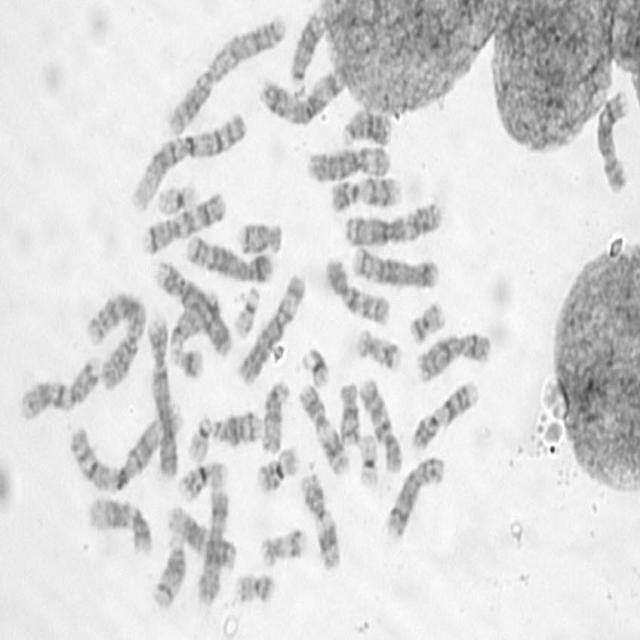A1: (126, 107, 248, 214), (68, 402, 186, 493)
A2: (165, 9, 288, 137), (82, 287, 147, 394)
A3: (257, 65, 348, 126), (341, 197, 444, 249)
B4: (152, 256, 232, 358), (145, 310, 180, 480)
B5: (184, 231, 273, 285), (349, 242, 440, 292)
C10: (356, 371, 406, 475), (322, 253, 392, 326)
C11: (296, 379, 352, 476), (298, 467, 343, 572)
C12: (165, 500, 237, 573), (84, 492, 154, 557)
C6: (236, 268, 306, 386), (305, 142, 392, 184)
C7: (17, 351, 102, 421), (140, 190, 227, 256)
C8: (383, 451, 446, 541), (594, 86, 632, 195)
C9: (409, 376, 480, 452), (328, 171, 403, 214)
D13: (288, 7, 326, 92), (339, 104, 393, 148)
D14: (148, 533, 189, 611), (207, 406, 264, 446)
D15: (167, 285, 224, 355), (260, 377, 290, 455)
E16: (174, 456, 228, 502), (254, 443, 300, 495)
E17: (258, 523, 308, 569), (354, 326, 402, 372)
E18: (236, 218, 285, 255), (336, 377, 361, 446)
F19: (154, 178, 200, 218), (356, 429, 380, 491)
F20: (407, 297, 446, 345), (232, 569, 276, 605)
G21: (298, 345, 330, 390), (171, 342, 205, 380)
G22: (232, 284, 260, 342), (184, 412, 212, 465)
X: (192, 484, 231, 606), (415, 327, 493, 384)
